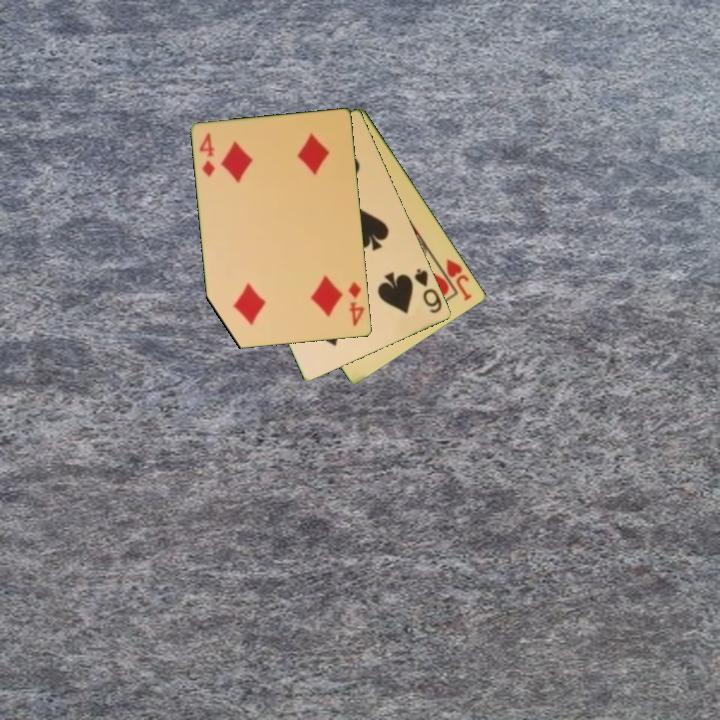4d: (345, 279, 368, 329), (196, 130, 218, 180)
6s: (411, 265, 445, 317)
Jh: (443, 255, 475, 304)
